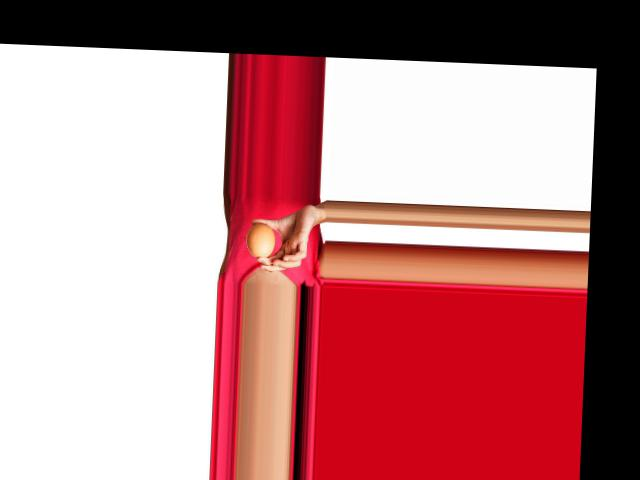egg: (246, 222, 276, 259)
